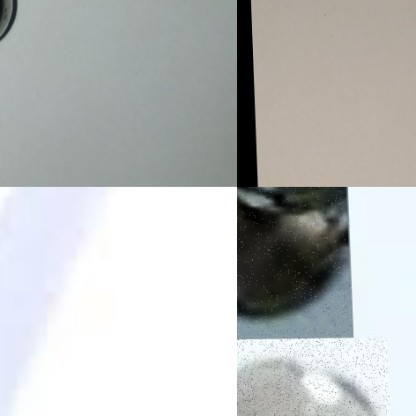ironball: (237, 186, 351, 340), (237, 338, 390, 415)
